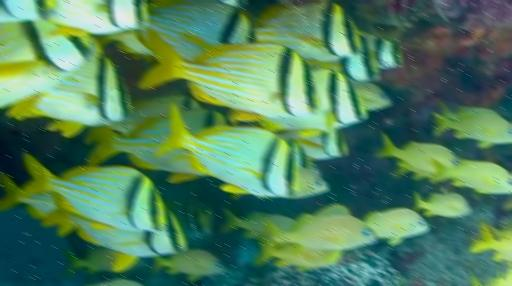Fish: (0, 174, 186, 271), (138, 29, 318, 120), (157, 105, 307, 195), (22, 154, 172, 229), (7, 49, 131, 136), (85, 101, 205, 181), (0, 21, 93, 102), (76, 213, 186, 271), (147, 0, 255, 59), (262, 70, 366, 131), (257, 1, 361, 59), (259, 215, 376, 250), (110, 95, 200, 134), (379, 134, 458, 178), (50, 0, 148, 35), (309, 34, 380, 80), (433, 107, 511, 147), (432, 159, 511, 193), (0, 172, 55, 218), (365, 208, 429, 244), (257, 243, 341, 270), (153, 250, 225, 280), (222, 208, 295, 236), (341, 36, 380, 80), (178, 197, 216, 240), (66, 246, 118, 274), (299, 129, 347, 158), (415, 194, 471, 216), (0, 0, 58, 21), (366, 35, 402, 68), (471, 224, 511, 253), (353, 81, 391, 110), (493, 224, 511, 235), (107, 279, 137, 285), (225, 0, 246, 6), (472, 275, 479, 285), (503, 280, 511, 285), (510, 204, 511, 208)
